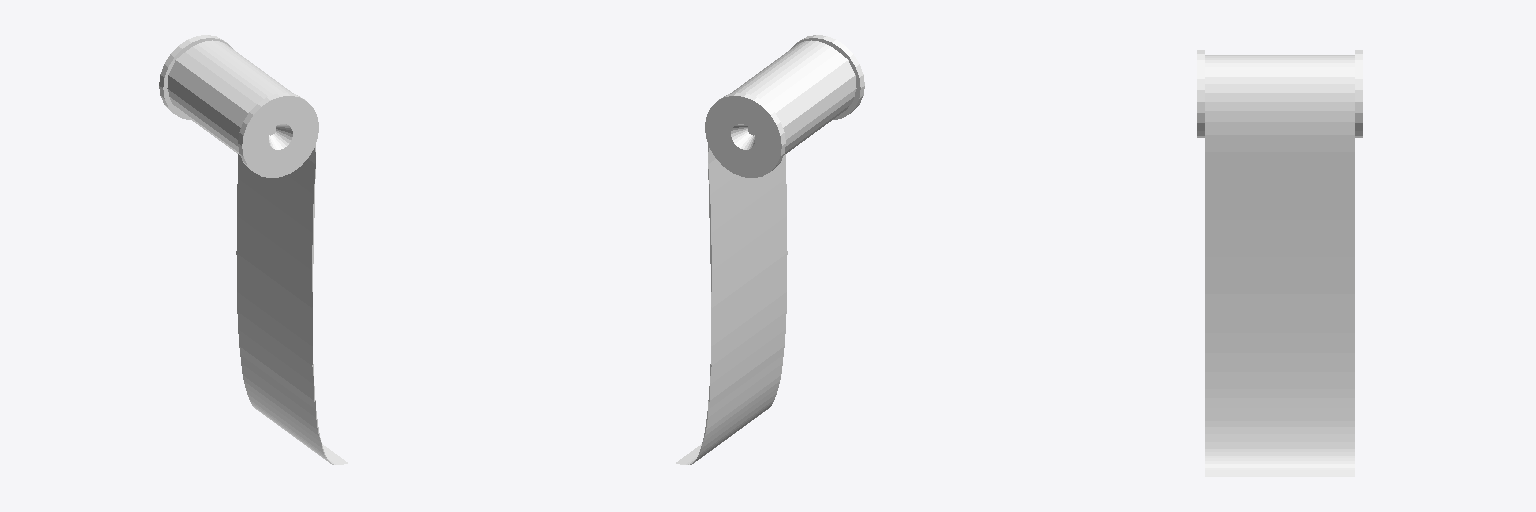
The model's file is Unrolled fabric (1).obj.
The picture shows the model from 3 angles: view 1: azimuth 30°, elevation 25°; view 2: azimuth 150°, elevation 25°; view 3: azimuth 270°, elevation 25°; orthographic projection.
Visible parts, largest first — view 1: Unrolled fabric (1); view 2: Unrolled fabric (1); view 3: Unrolled fabric (1).
Part boxes in pixels (x1,y1,x2,y2): Unrolled fabric (1): (159,35,347,464); Unrolled fabric (1): (676,35,864,464); Unrolled fabric (1): (1197,50,1362,476).
Bounding box in the file's own units: 3.35 × 11.19 × 4.35.